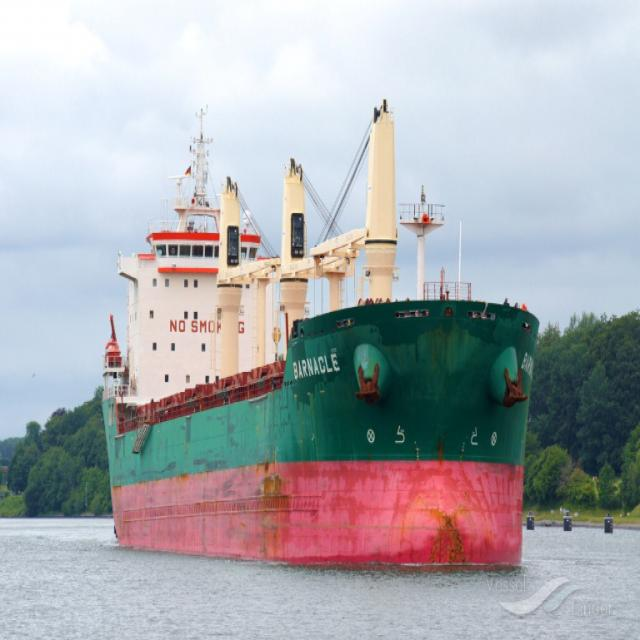OCR: (286, 344, 348, 382)
